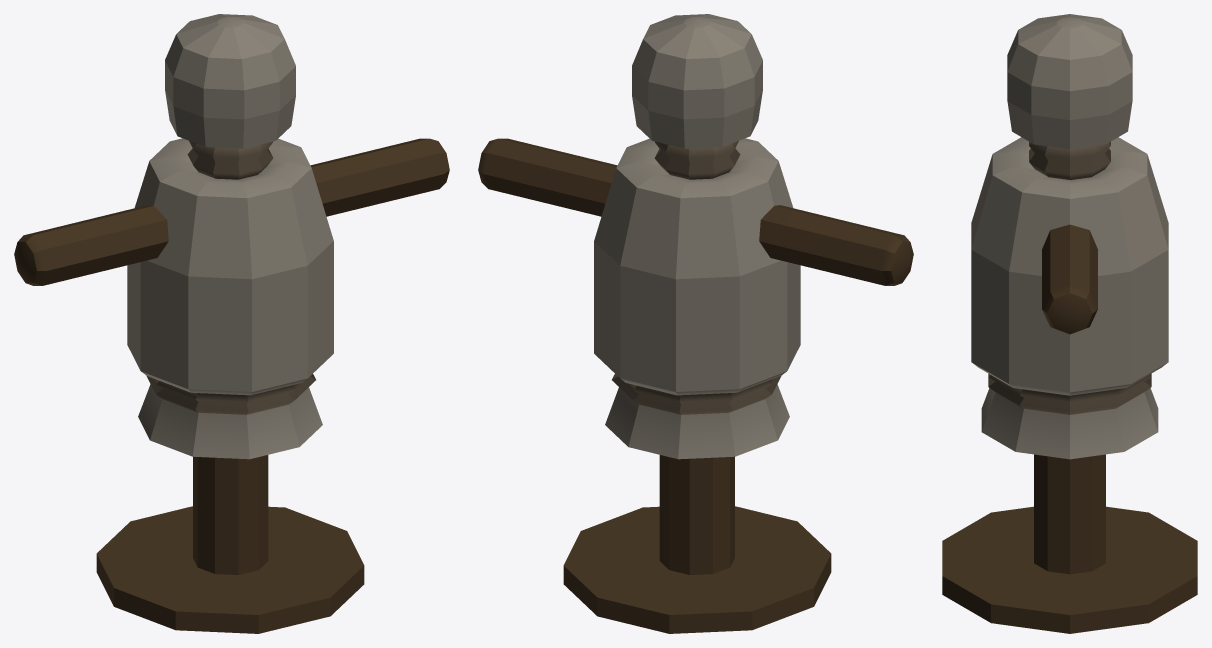
Rendered from p_dummy.fbx.
The picture shows the model from 3 angles, left to right: view 1: azimuth 30°, elevation 25°; view 2: azimuth 150°, elevation 25°; view 3: azimuth 270°, elevation 25°; orthographic projection.
Parts seen in each view (by area): view 1: pCylinder44, pCylinder45; view 2: pCylinder44, pCylinder45; view 3: pCylinder44, pCylinder45.
Boxes of the visible parts, <box> form: pCylinder44: <box>96,14,364,633</box>; pCylinder45: <box>14,138,449,285</box>; pCylinder44: <box>563,14,831,633</box>; pCylinder45: <box>478,138,913,285</box>; pCylinder44: <box>942,14,1197,633</box>; pCylinder45: <box>1042,224,1097,334</box>.
Bounding box in the file's own units: 175 × 220 × 91.3.
